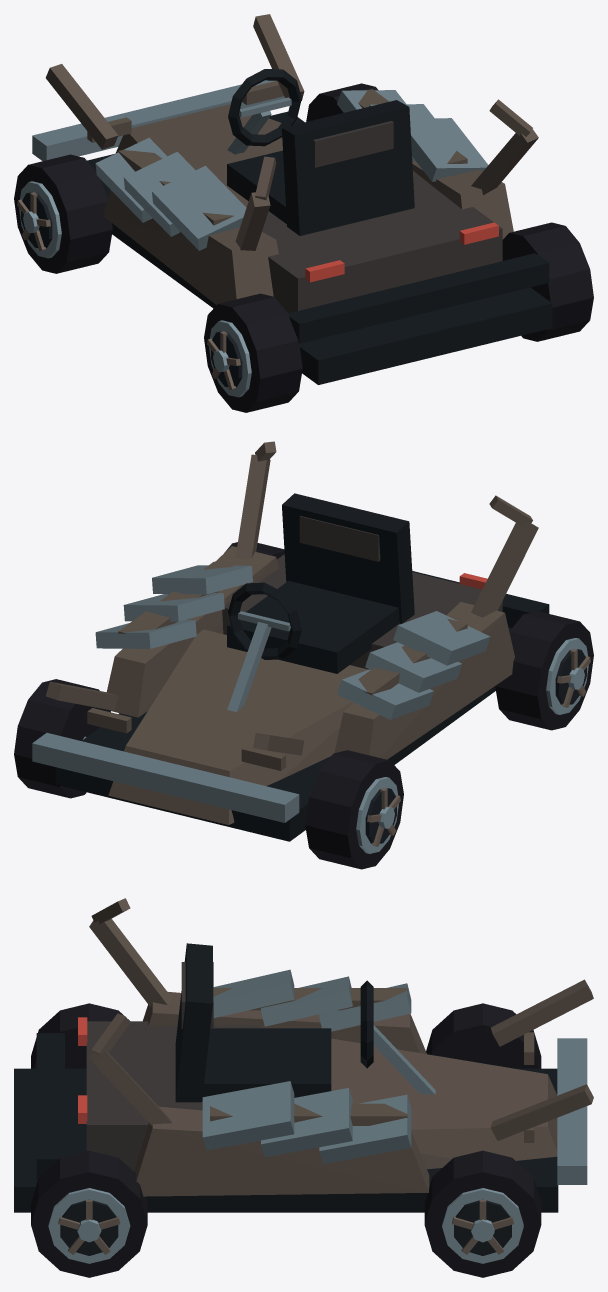
Rendered from kart.glb.
The picture shows the model from 3 angles, top to bottom: view 1: azimuth 30°, elevation 25°; view 2: azimuth 150°, elevation 25°; view 3: azimuth 270°, elevation 25°; orthographic projection. The views are drawn at different scales.
Visible parts, largest first — view 1: chassis, wheel-rear-left, wheel-front-left, wheel-rear-right, wheel-front-right; view 2: chassis, wheel-front-left, wheel-rear-left, wheel-front-right; view 3: chassis, wheel-front-right, wheel-rear-right, wheel-front-left, wheel-rear-left.
Boxes of the visible parts, box(x1,y1,x2,y2) form: chassis: box(32, 14, 552, 384); wheel-rear-left: box(204, 293, 302, 412); wheel-front-left: box(14, 154, 112, 273); wheel-rear-right: box(502, 222, 593, 341); wheel-front-right: box(306, 83, 378, 121); chassis: box(32, 441, 549, 841); wheel-front-left: box(305, 750, 403, 869); wheel-rear-left: box(495, 611, 593, 730); wheel-front-right: box(14, 679, 110, 798); chassis: box(14, 898, 593, 1212); wheel-front-right: box(424, 1150, 541, 1277); wheel-rear-right: box(31, 1150, 147, 1277); wheel-front-left: box(426, 1003, 541, 1068); wheel-rear-left: box(31, 1003, 129, 1068).
Size of the model in its own units: 2.29 by 1.38 by 3.08.
